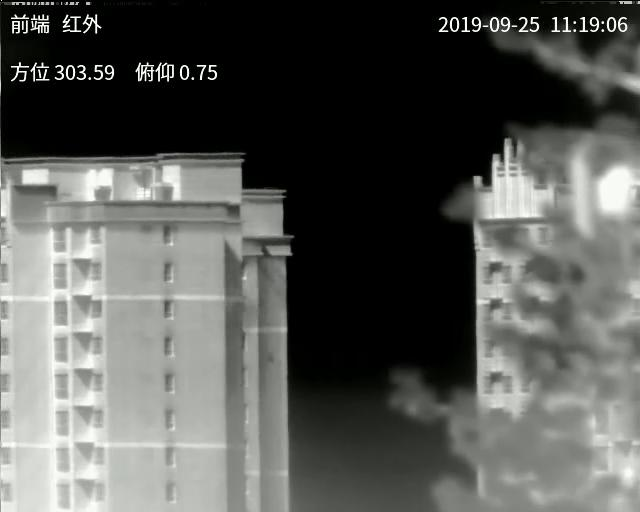uav: (227, 298, 263, 331)
